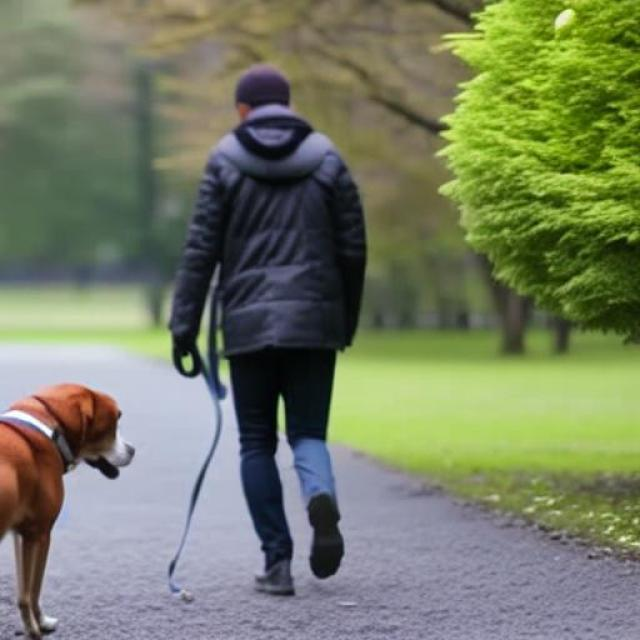Unleashed_Dog: (0, 281, 338, 640)
